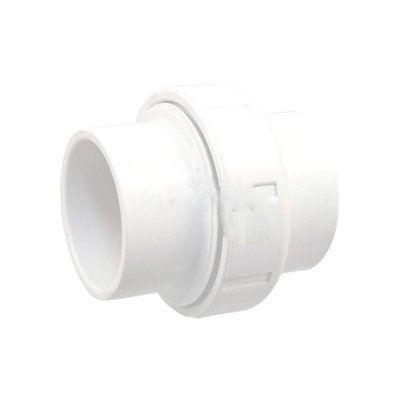PVC: (39, 60, 379, 325)
